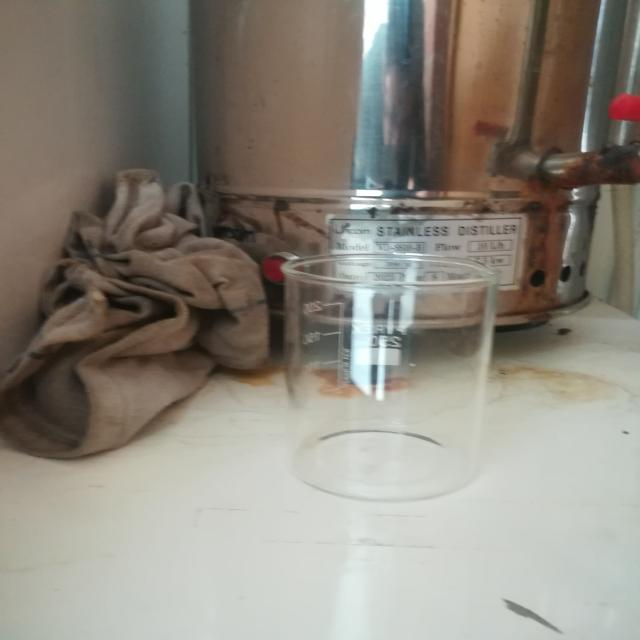Beaker: (258, 217, 530, 524)
